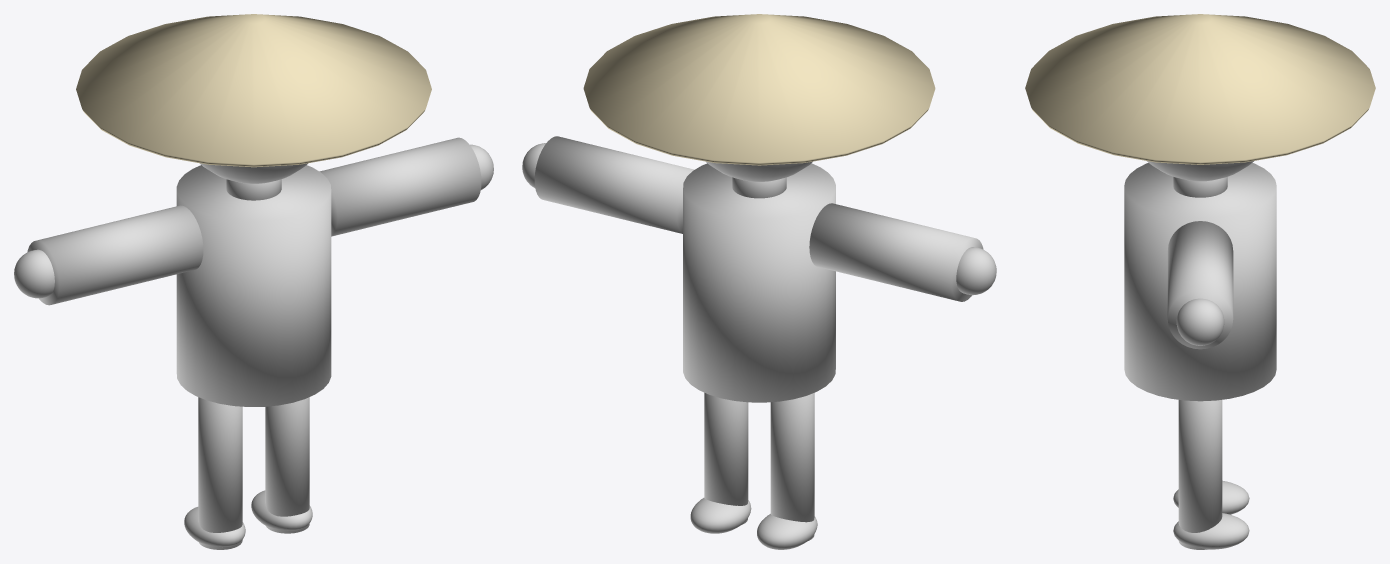
The model's file is npc.fbx.
The picture shows the model from 3 angles, left to right: view 1: azimuth 30°, elevation 25°; view 2: azimuth 150°, elevation 25°; view 3: azimuth 270°, elevation 25°; orthographic projection.
Parts seen in each view (by area): view 1: NPC, StrawHat; view 2: NPC, StrawHat; view 3: NPC, StrawHat.
Boxes of the visible parts, x1=… form: NPC: x1=14, y1=137, x2=493, y2=549; StrawHat: x1=76, y1=14, x2=431, y2=167; NPC: x1=522, y1=136, x2=996, y2=549; StrawHat: x1=583, y1=14, x2=935, y2=165; NPC: x1=1124, y1=161, x2=1276, y2=549; StrawHat: x1=1025, y1=14, x2=1375, y2=164.
Bounding box in the file's own units: 49.4 × 51.69 × 32.17.
